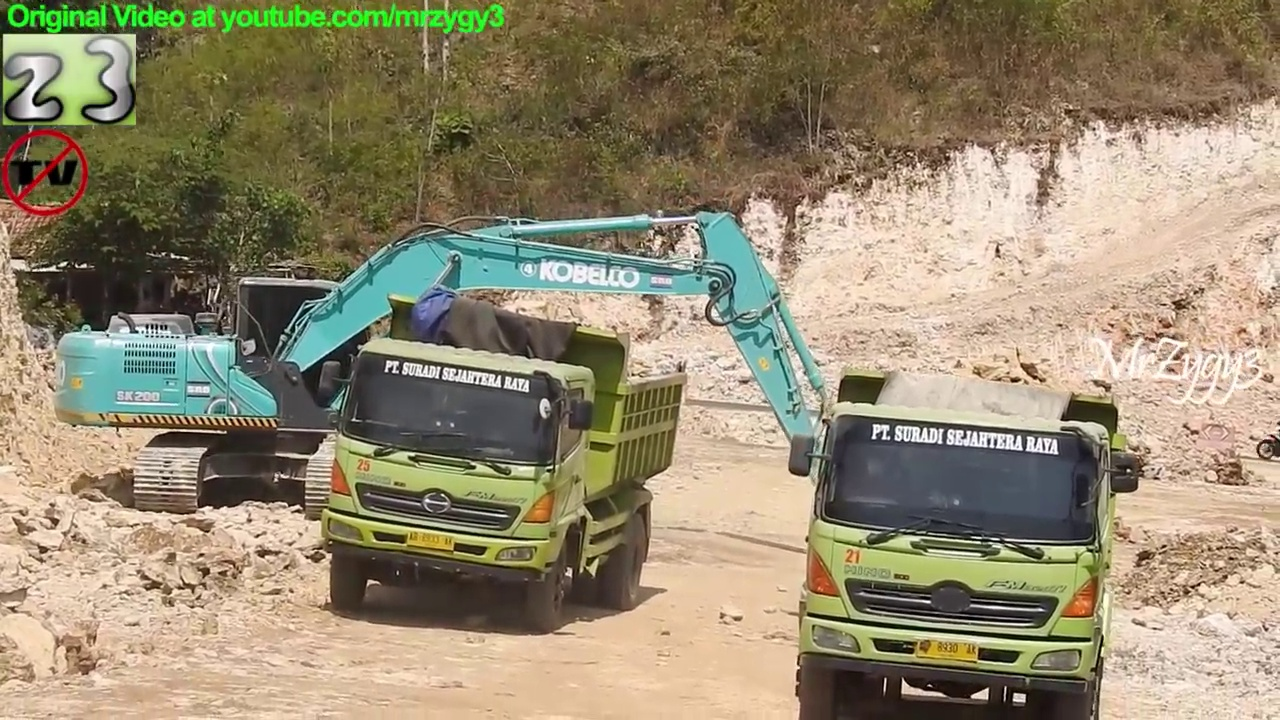excavator: (48, 203, 953, 538)
truck: (313, 286, 692, 640), (784, 359, 1148, 720)
